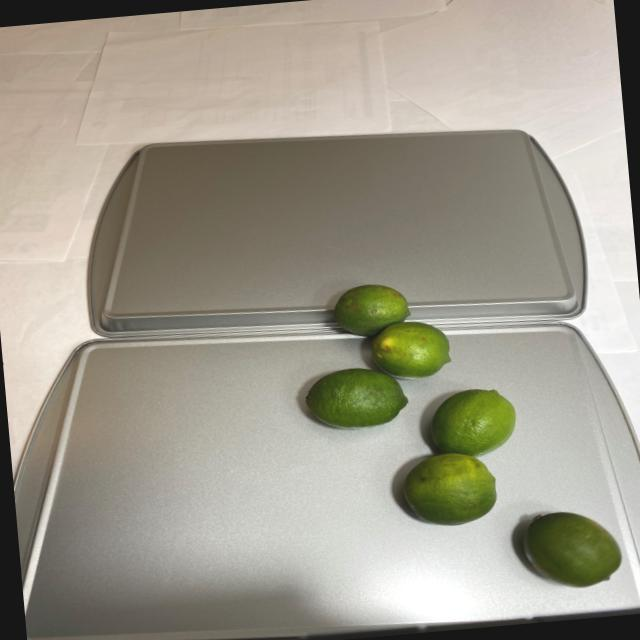lemon: (292, 261, 624, 608)
